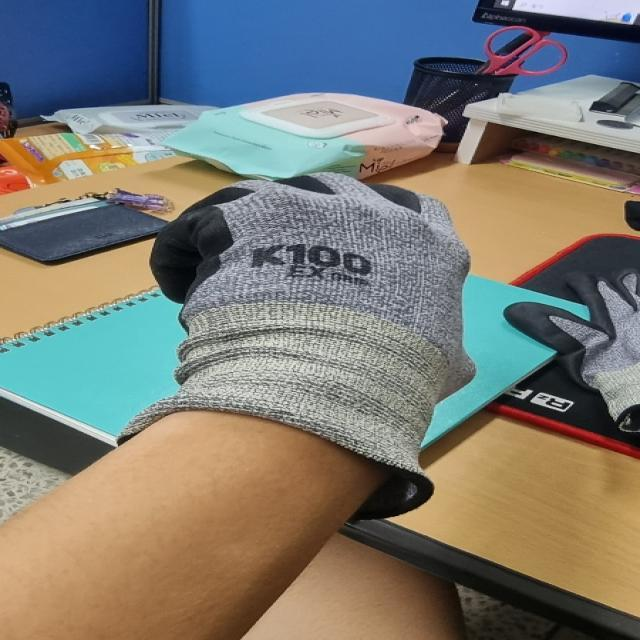Gloves: (156, 169, 482, 495)
